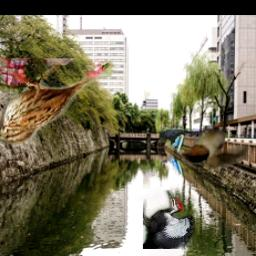Crow: (158, 130, 193, 147)
Sparrow: (0, 58, 115, 145)
Swallow: (182, 126, 250, 170)
Woodpecker: (142, 191, 194, 250)
